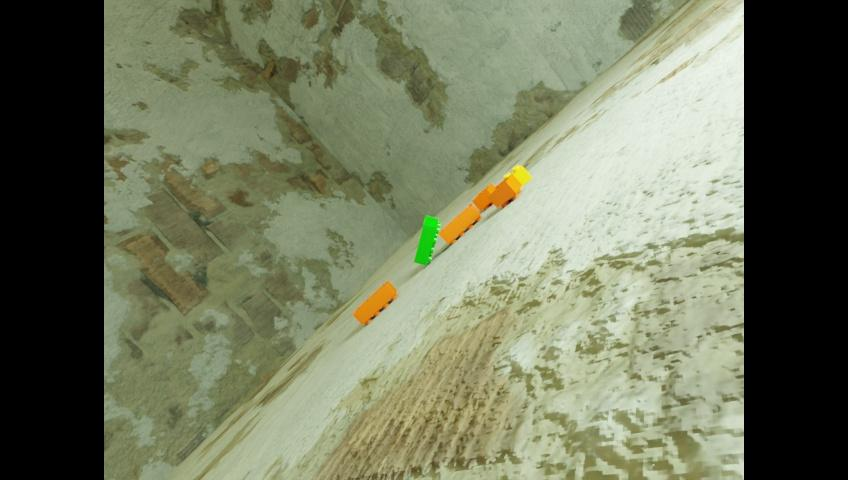2x2_orange: (487, 173, 521, 207), (472, 182, 494, 210)
2x2_yellow: (503, 164, 531, 185)
4x2_green: (413, 215, 440, 265)
4x2_orange: (352, 279, 396, 324), (439, 203, 480, 244)
